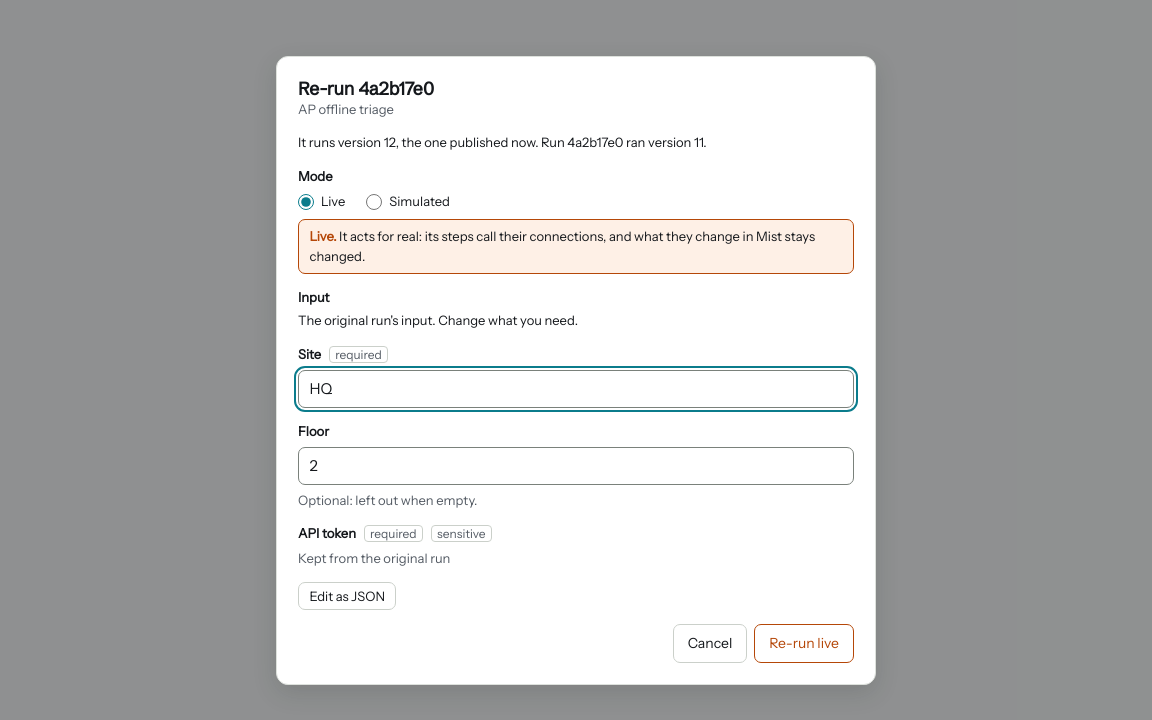
it: re-running a run (the run form design §5.4; the Rerun board) › turns to empty fields when the original input is gone by the time it's sent
The width and height of the screenshot is (1152, 720).
What coordinates should you click on to do the following:
click the button "Re-run live"
I would click on:
 (804, 644)
Its box is 754,624 -> 854,663.
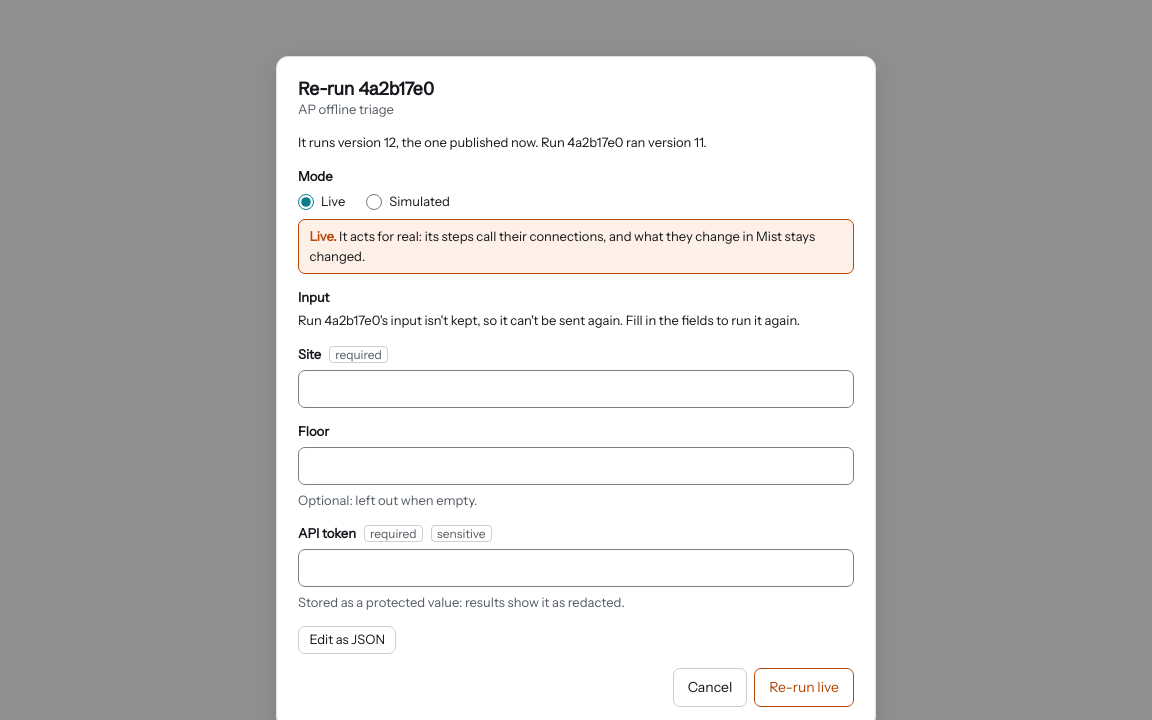
Expected: the text "Run 4a2b17e0's input isn't kept, so it can't be sent again. Fill in the fields to run it again." is shown, 298,312 -> 800,328
Expected: the field labelled "Site required" is empty, 298,370 -> 854,408
